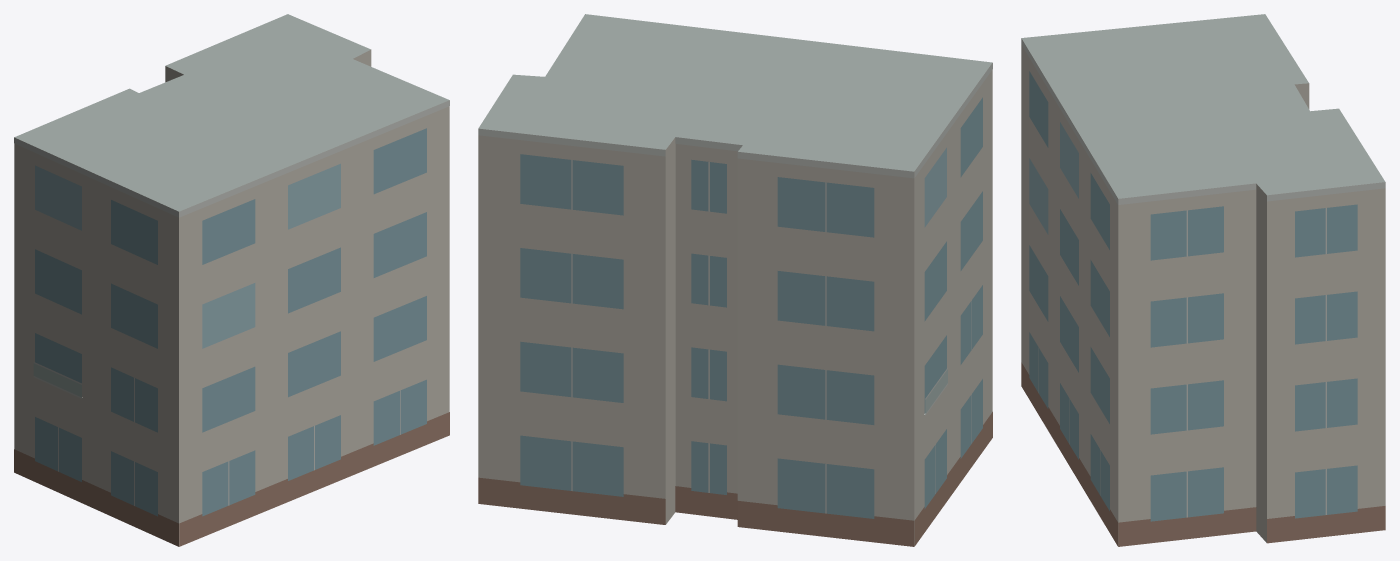
The model's file is survey-upis-32784860.glb.
The picture shows the model from 3 angles, left to right: view 1: azimuth 30°, elevation 25°; view 2: azimuth 150°, elevation 25°; view 3: azimuth 270°, elevation 25°; orthographic projection. The views are drawn at different scales.
Parts seen in each view (by area): view 1: survey-upis-32784860.tmp; view 2: survey-upis-32784860.tmp; view 3: survey-upis-32784860.tmp.
Boxes of the visible parts, x1,y1,x2,y2 form: survey-upis-32784860.tmp: (14,14,449,546); survey-upis-32784860.tmp: (478,14,992,546); survey-upis-32784860.tmp: (1021,14,1385,546).
Bounding box in the file's own units: 15.5 × 13.6 × 12.91.
